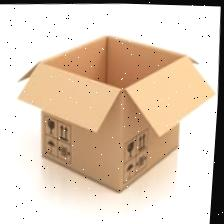cardboard: (3, 16, 209, 201)
